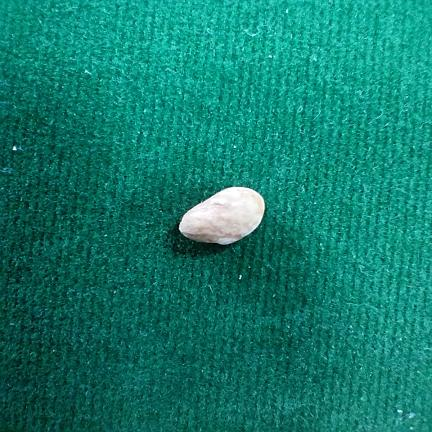shell: (179, 187, 265, 245)
